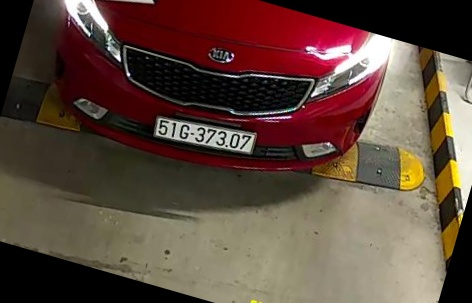plate: (145, 111, 258, 160)
